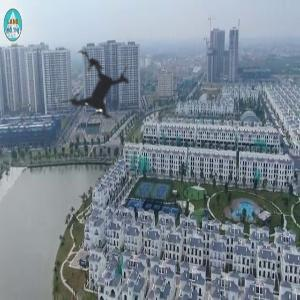drone: (31, 24, 163, 156)
